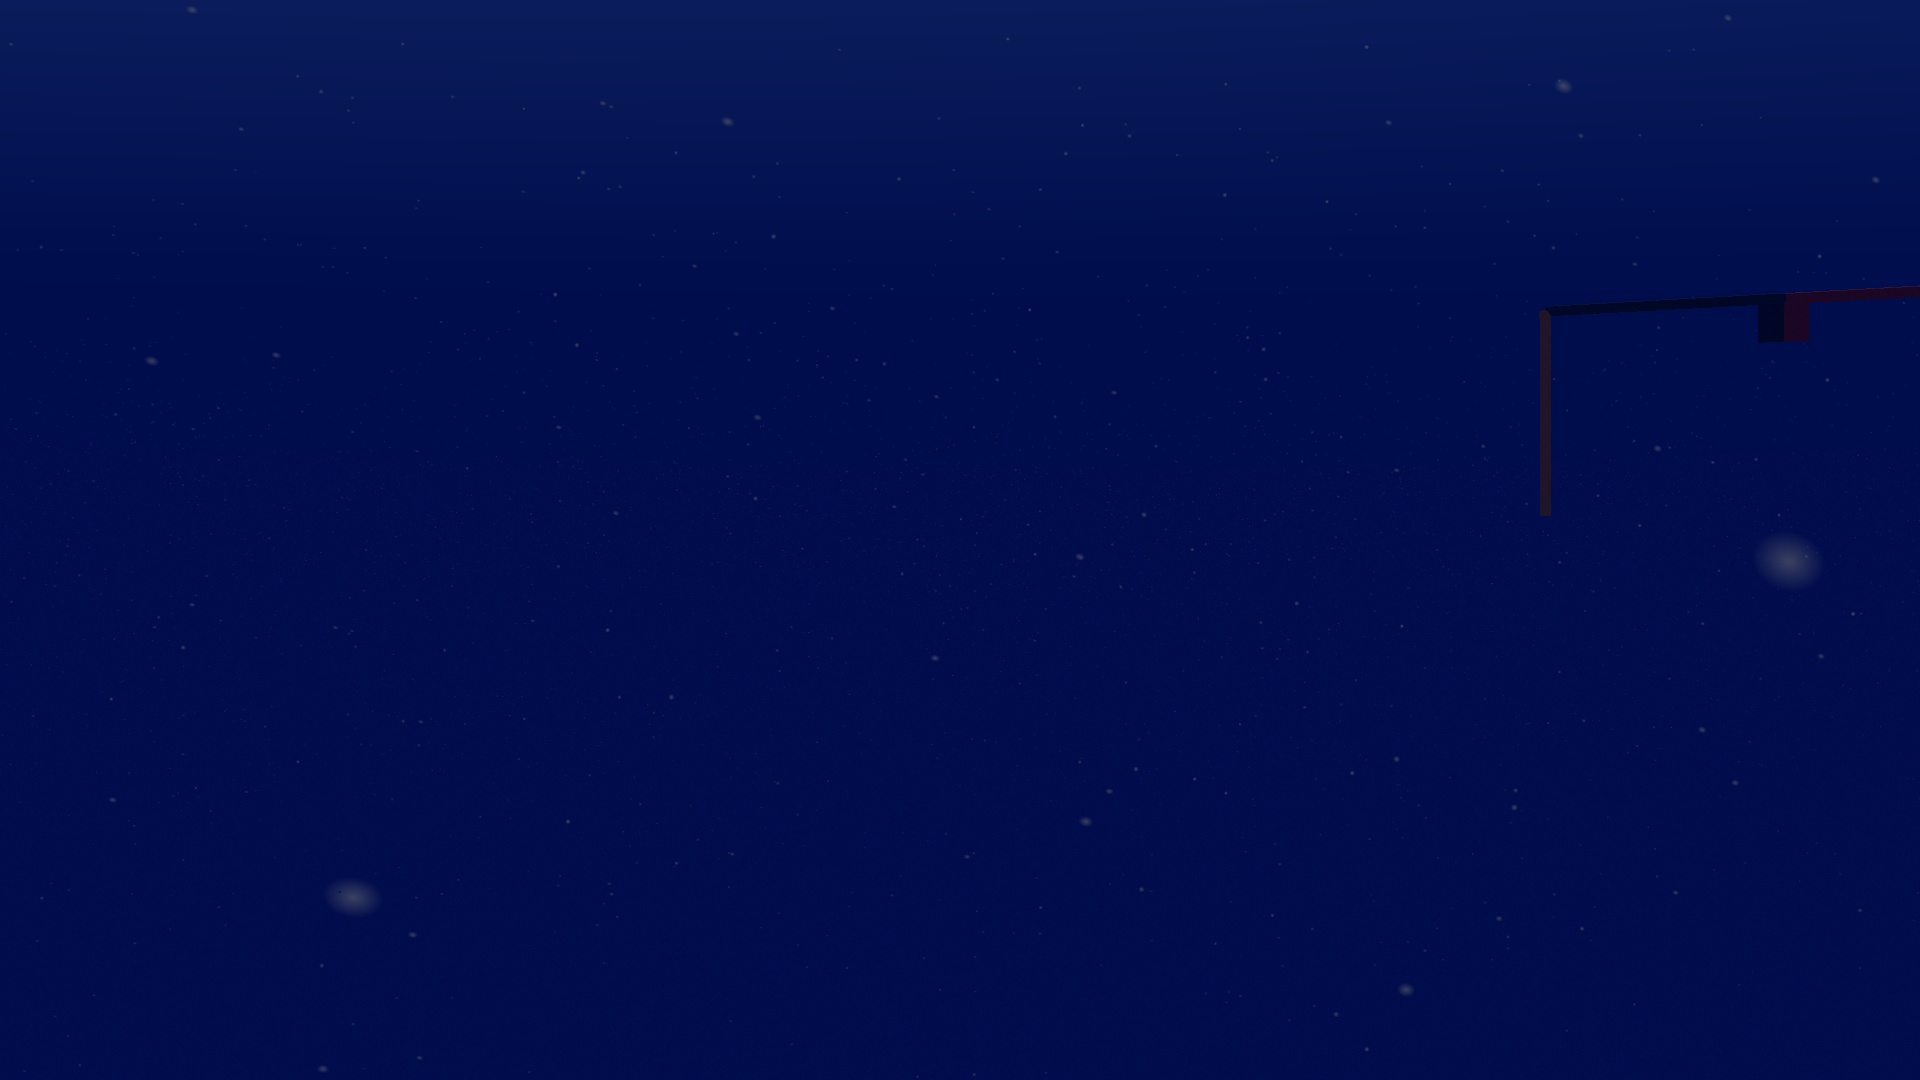Gate: (1532, 280, 1920, 524)
